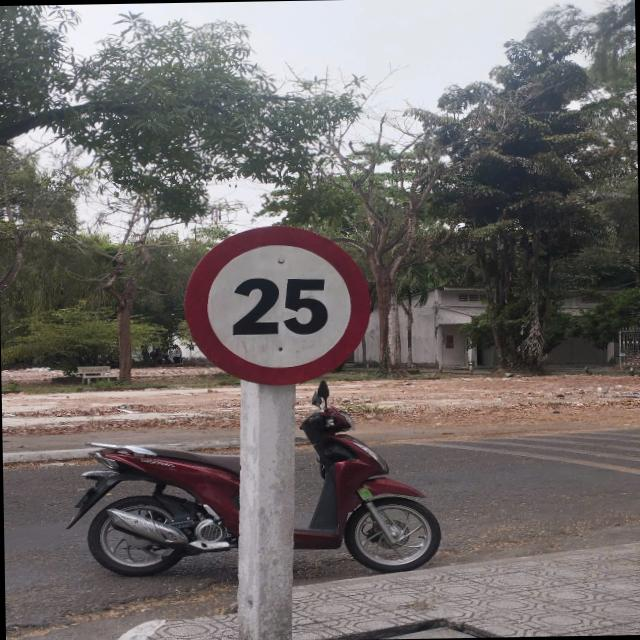Tre_Em: (180, 222, 376, 390)
